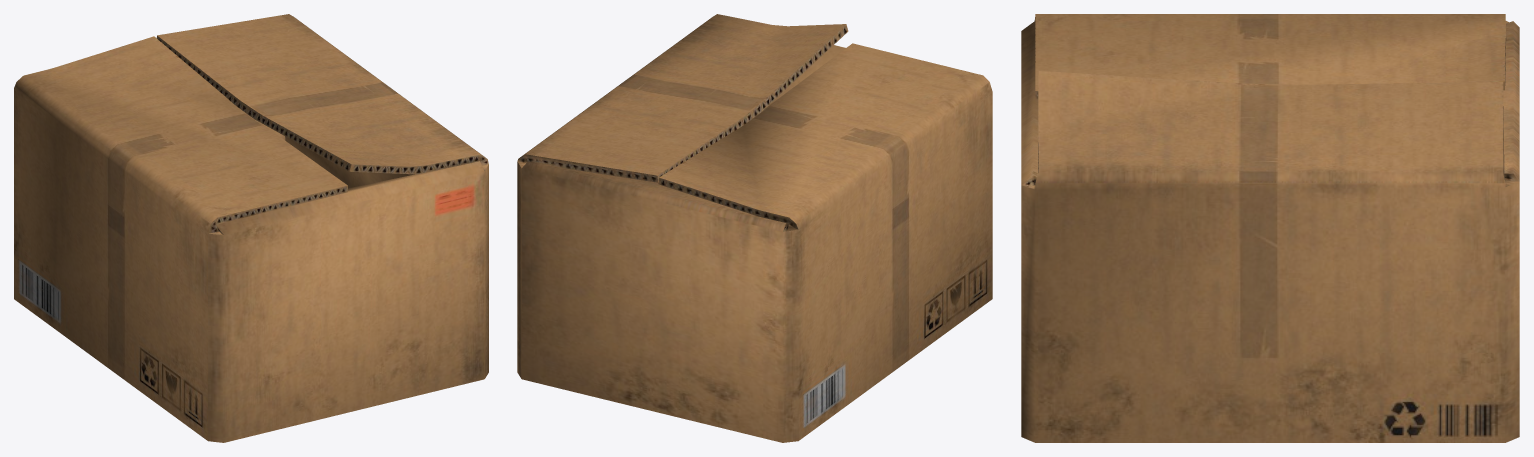
The model's file is carton_box_05_closed.glb.
3 views of the same model, side by side, from view 1: azimuth 30°, elevation 25°; view 2: azimuth 150°, elevation 25°; view 3: azimuth 270°, elevation 25° (orthographic). The views are drawn at different scales.
Parts seen in each view (by area): view 1: Carton; view 2: Carton; view 3: Carton.
Part boxes in pixels (<box>): Carton: <box>14,14,488,442</box>; Carton: <box>517,14,992,442</box>; Carton: <box>1021,14,1519,442</box>.
Size of the model in its own units: 31.55 by 25.82 by 39.97.
1 material, 1 textured.
